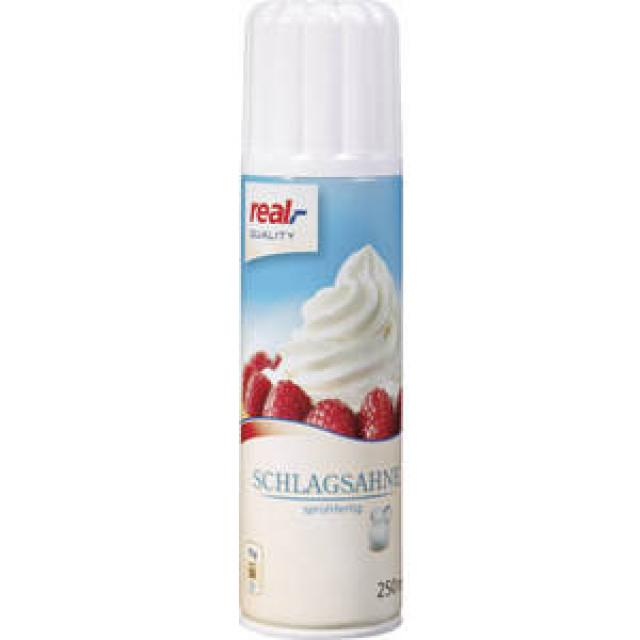cream: (241, 0, 403, 638)
